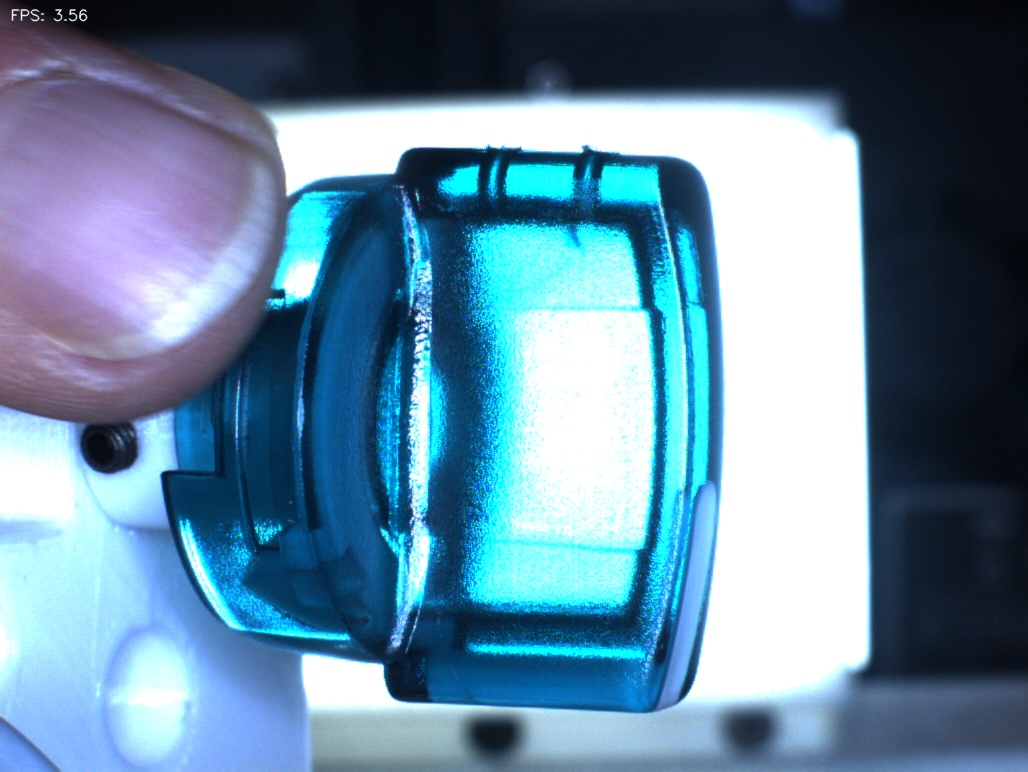Bulle: (548, 168, 632, 241)
